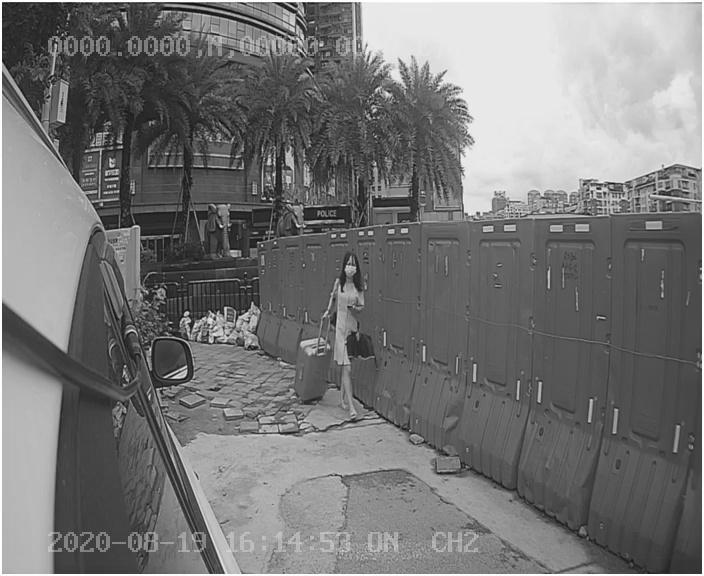person: (314, 248, 386, 425)
